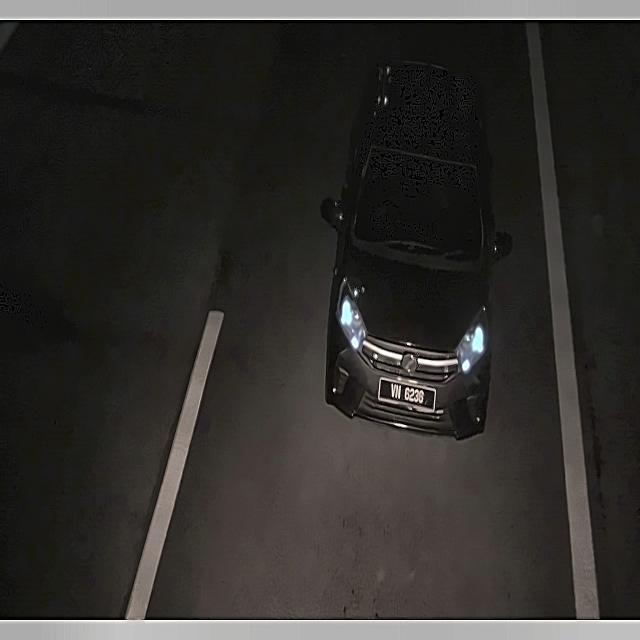car: (377, 372, 440, 418)
